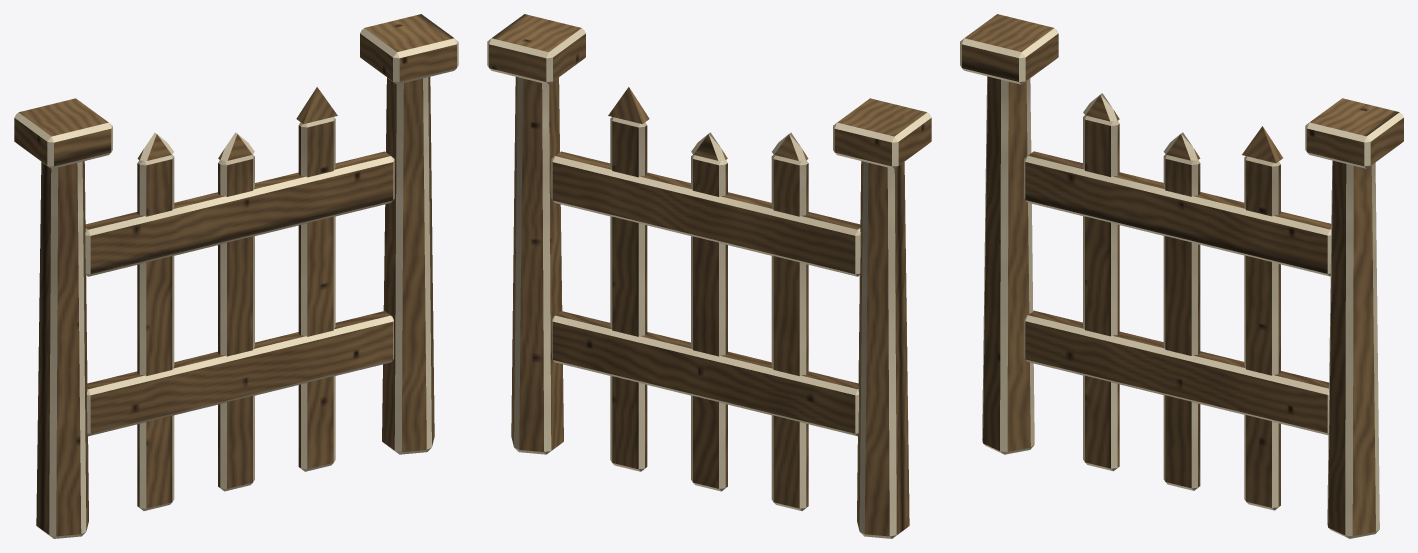
Rendered from Env_Fence_Picket_1m.fbx.
3 renders of one model, left to right at view 1: azimuth 30°, elevation 25°; view 2: azimuth 150°, elevation 25°; view 3: azimuth 330°, elevation 25°, orthographic.
Visible parts, largest first — view 1: Env_Fence_Picket_1m; view 2: Env_Fence_Picket_1m; view 3: Env_Fence_Picket_1m.
Part boxes in pixels (left/top/right/bottom): Env_Fence_Picket_1m: left=14, top=14, right=458, bottom=538; Env_Fence_Picket_1m: left=487, top=14, right=931, bottom=538; Env_Fence_Picket_1m: left=960, top=14, right=1403, bottom=538.
Size of the model in its own units: 119 by 19 by 114.
